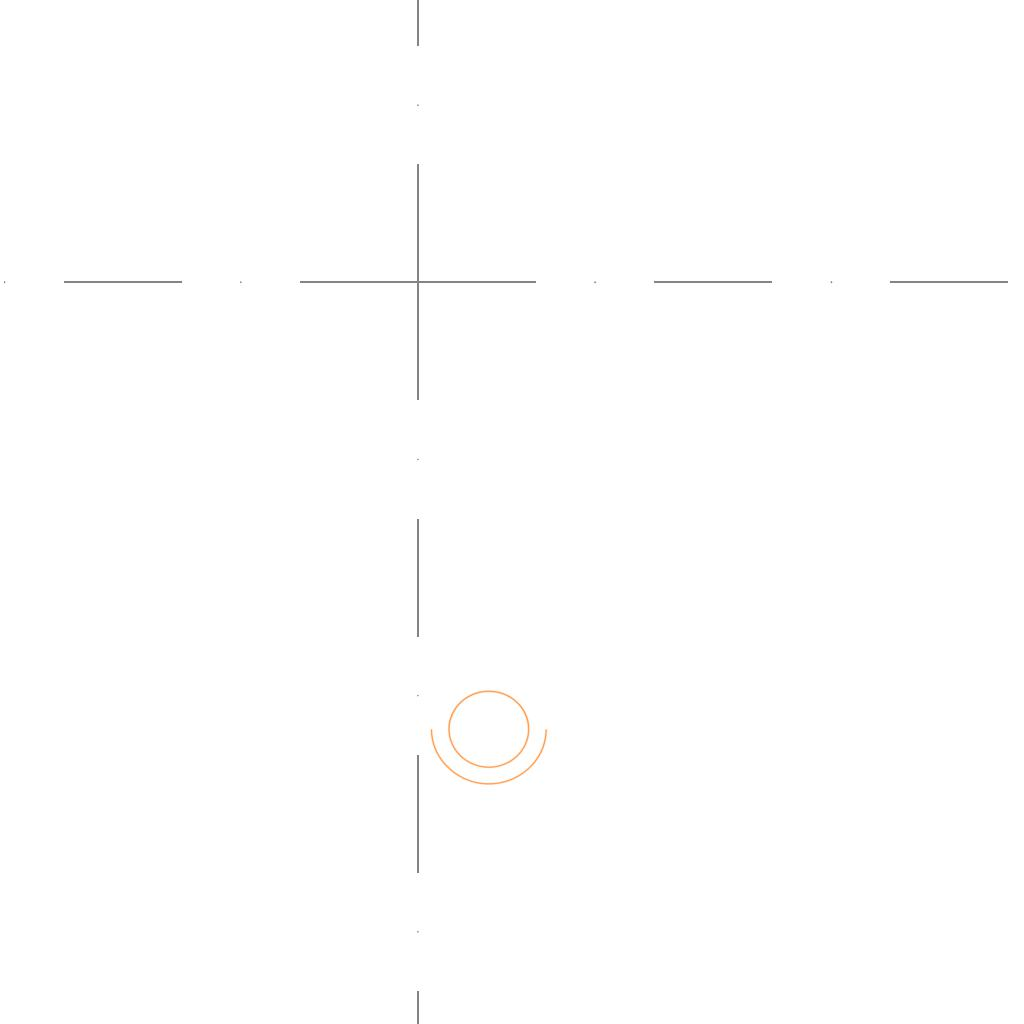Scheinwerfer_fuer_Alarmbeleuchtung: (426, 678, 558, 790)
